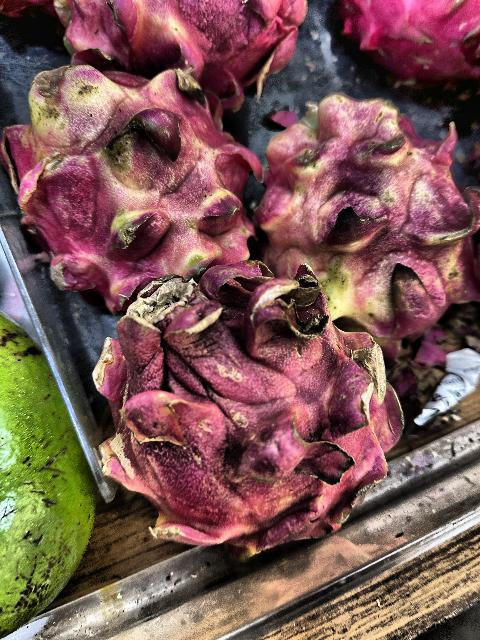buah-naga-belum-matang: (90, 265, 408, 543), (0, 62, 260, 292), (252, 70, 480, 332), (55, 1, 307, 88)
buah-naga-matang: (338, 0, 480, 70)
